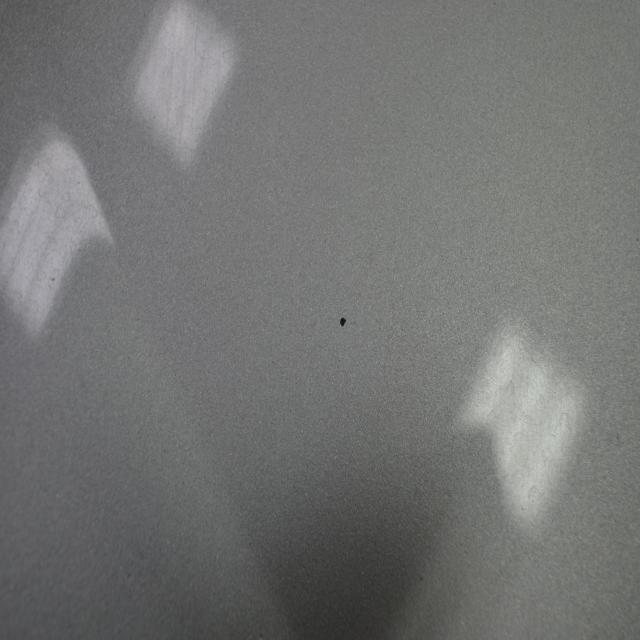dirt: (339, 314, 346, 330)
